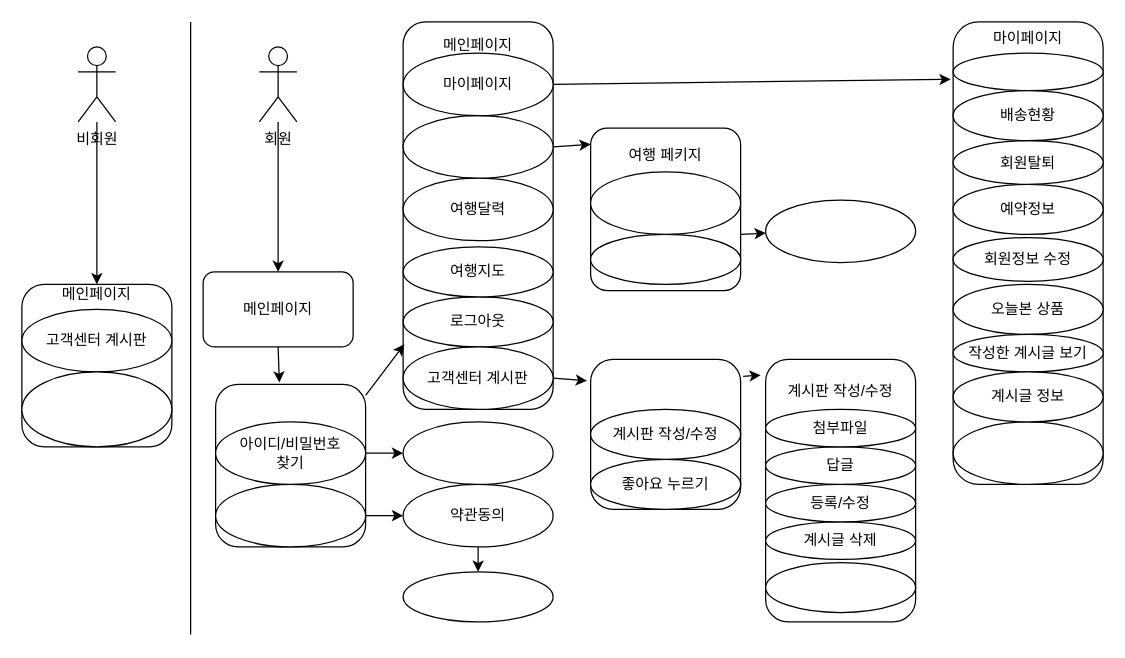
Image size: 1125x658. Some labels were removed from this diagram. Each missing label, with the box of its shape:
개인정보 입력: (402, 571, 553, 622)
고객센터 상세정보 (비회원): (21, 371, 172, 447)
고객센터 상세정보 (회원): (589, 358, 741, 509)
내 Q&A 현황: (952, 52, 1103, 91)
로그인: (214, 383, 366, 547)
비밀 계시글 작성: (764, 561, 916, 612)
여행패키지: (402, 114, 553, 178)
이름/이메일 입력: (402, 421, 553, 484)
좋아요 누른 계시글 정보: (952, 421, 1103, 484)
페키지 결제: (764, 199, 916, 262)
페키지 예약: (589, 233, 741, 284)
페키지 예약 리스트: (589, 171, 741, 234)
회원가입: (214, 483, 366, 547)
